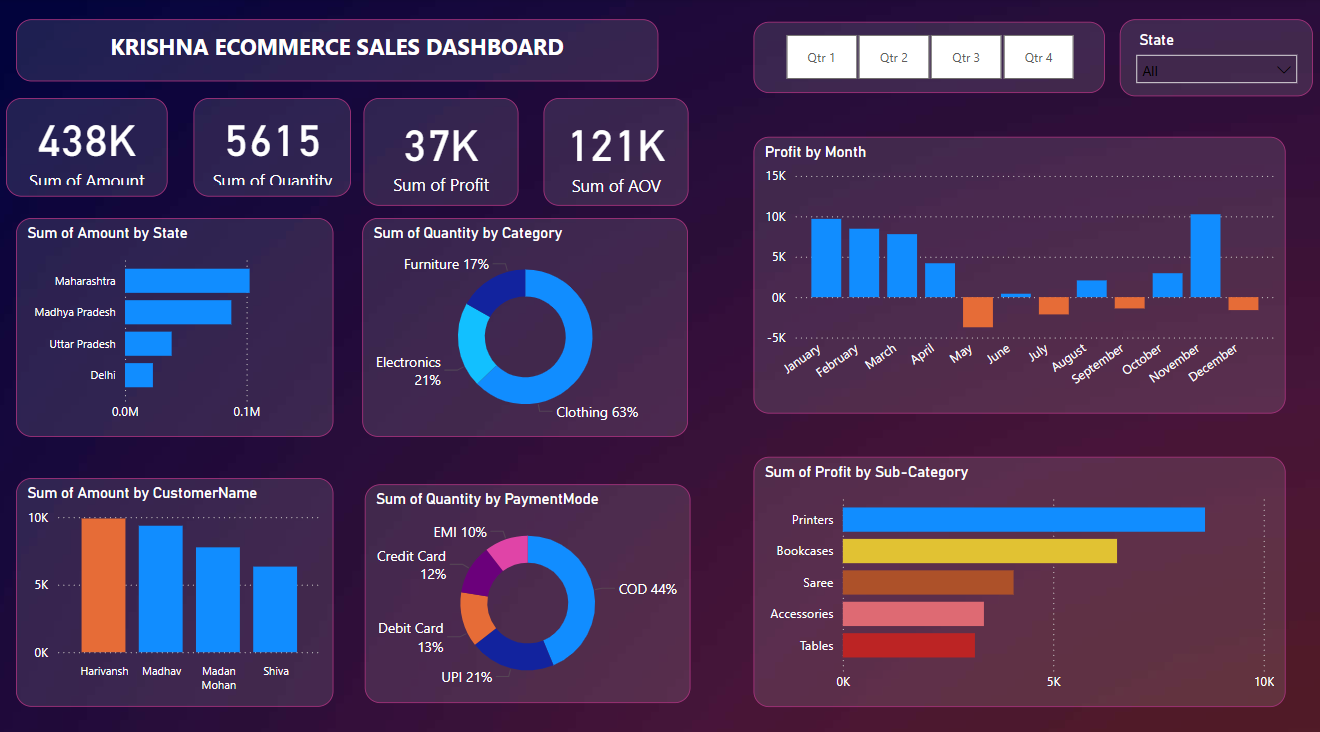

The page's visual inventory and layout, read from the dashboard file:
{"tool":"powerbi","page":{"name":"Page 1","canvas":[1280,720],"ordinal":0},"visuals":[{"type":"textbox","box":[19.2,20.6,620.2,60.4],"z":0},{"type":"columnChart","title":" Profit by Month","fields":{"Category":["Orders.Order Date.Variation.Date Hierarchy.Month"],"Y":["Details.Profit"]},"box":[731.4,134.5,513.2,267.6],"z":1000},{"type":"barChart","fields":{"Category":["Details.Sub-Category"],"Y":["Details.Profit"]},"box":[731.4,443.2,513.2,241.5],"z":2000},{"type":"donutChart","fields":{"Category":["Details.Category"],"Y":["Details.Quantity"]},"box":[354,212.7,314.2,211.3],"z":3000},{"type":"donutChart","fields":{"Y":["Details.Quantity"],"Category":["Details.PaymentMode"]},"box":[355.4,469.3,314.2,211.3],"z":4000},{"type":"card","fields":{"Values":["Details.AOV"]},"box":[528.3,96.1,140,104.3],"z":5000},{"type":"card","fields":{"Values":["Details.Amount"]},"box":[9.7,96.5,155.6,95.3],"z":6000},{"type":"card","fields":{"Values":["Details.Quantity"]},"box":[190.6,96.5,152,95.3],"z":7000},{"type":"card","fields":{"Values":["Details.Profit"]},"box":[354.7,96.5,149.6,103.8],"z":8000},{"type":"barChart","fields":{"Category":["Orders.State"],"Y":["Details.Amount"]},"box":[19.2,212.7,306,211.3],"z":9000},{"type":"columnChart","fields":{"Category":["Orders.CustomerName"],"Y":["Details.Amount"]},"box":[19.2,463.8,306,220.9],"z":10000},{"type":"slicer","fields":{"Values":["Orders.Order Date.Variation.Date Hierarchy.Quarter"]},"box":[731.4,23.3,338.9,68.6],"z":11000},{"type":"slicer","fields":{"Values":["Orders.State"]},"box":[1084.1,20.6,186.6,74.1],"z":11001}]}

Visuals, with their boxes in screenshot pixels (x1, y1, x2, y2), scaled from the page's 1280x720 canvas onto the 1320x732 screenshot:
textbox: [x1=20, y1=21, x2=659, y2=82]
" Profit by Month" columnChart: [x1=754, y1=137, x2=1283, y2=409]
barChart - Details.Sub-Category x Details.Profit: [x1=754, y1=451, x2=1283, y2=696]
donutChart - Details.Category x Details.Quantity: [x1=365, y1=216, x2=689, y2=431]
donutChart - Details.Quantity x Details.PaymentMode: [x1=367, y1=477, x2=691, y2=692]
card - Details.AOV: [x1=545, y1=98, x2=689, y2=204]
card - Details.Amount: [x1=10, y1=98, x2=170, y2=195]
card - Details.Quantity: [x1=197, y1=98, x2=353, y2=195]
card - Details.Profit: [x1=366, y1=98, x2=520, y2=204]
barChart - Orders.State x Details.Amount: [x1=20, y1=216, x2=335, y2=431]
columnChart - Orders.CustomerName x Details.Amount: [x1=20, y1=472, x2=335, y2=696]
slicer - Orders.Order Date.Variation.Date Hierarchy.Quarter: [x1=754, y1=24, x2=1104, y2=93]
slicer - Orders.State: [x1=1118, y1=21, x2=1310, y2=96]
